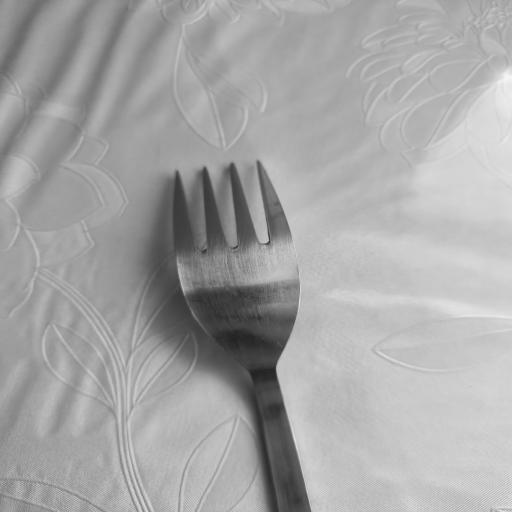fork: (172, 158, 312, 512)
